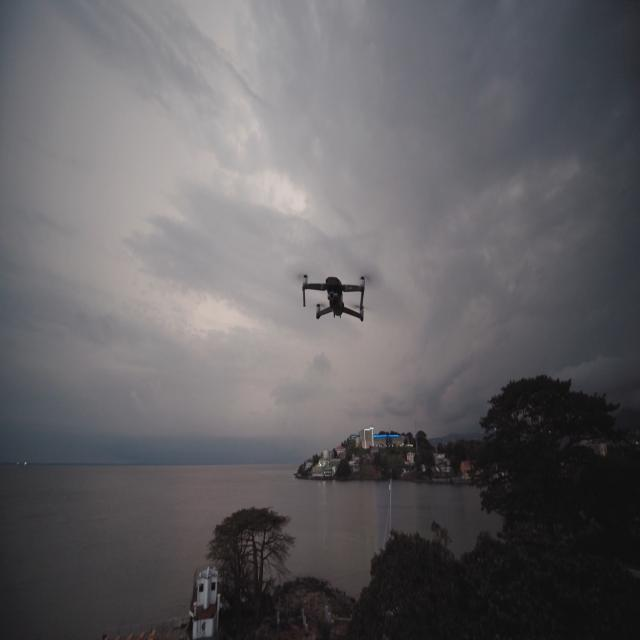drone: (302, 273, 366, 322)
